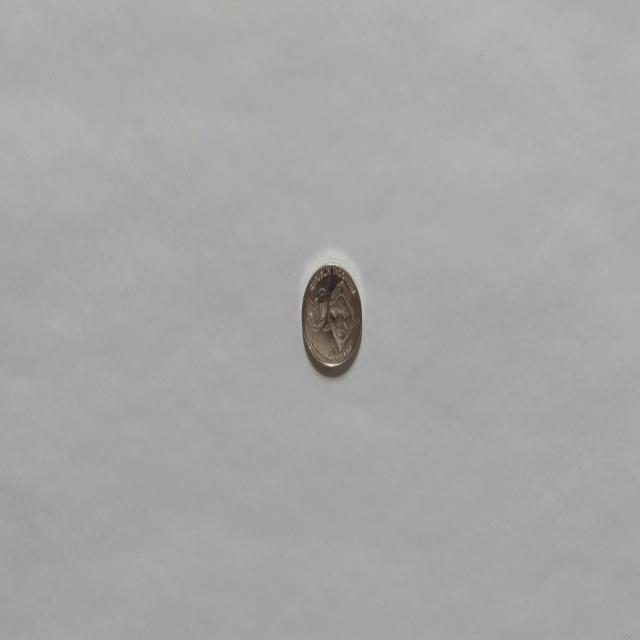dua ratus rupiah: (300, 260, 362, 376)
